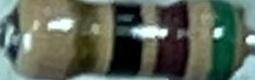Black: (156, 2, 187, 80), (108, 4, 140, 76)
Green: (210, 2, 235, 80)
Side-Gold: (69, 2, 98, 78)
